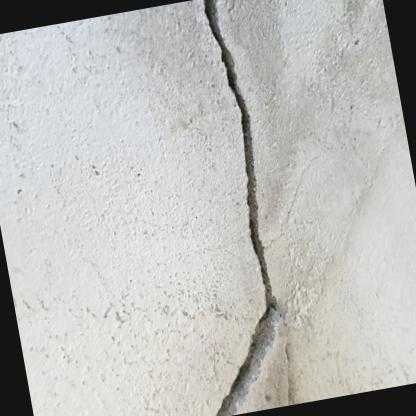crack: (203, 0, 281, 416)
